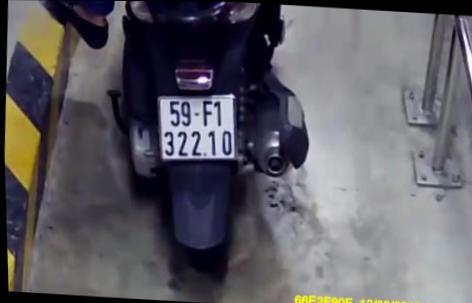LP: (154, 94, 238, 161)
